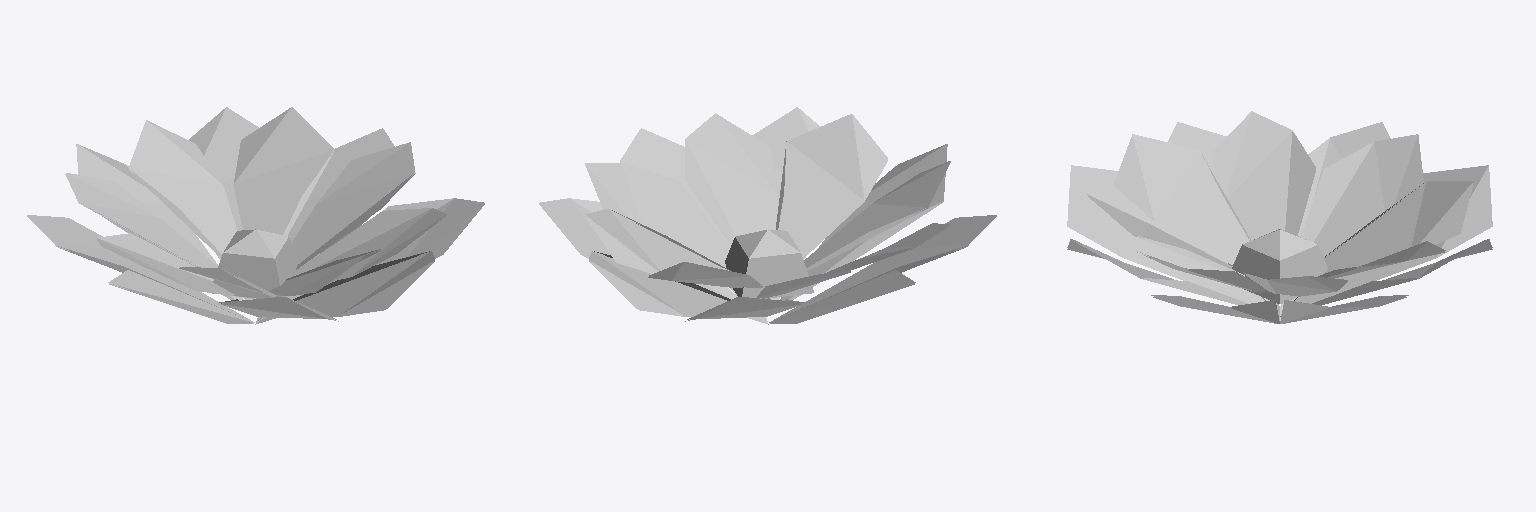
File: flower.obj
3 renders of one model, left to right at view 1: azimuth 30°, elevation 25°; view 2: azimuth 150°, elevation 25°; view 3: azimuth 270°, elevation 25°, orthographic.
Parts seen in each view (by area): view 1: flor; view 2: flor; view 3: flor.
Boxes of the visible parts, x1=… form: flor: x1=27, y1=107, x2=484, y2=324; flor: x1=539, y1=107, x2=996, y2=324; flor: x1=1067, y1=111, x2=1492, y2=323.
Size of the model in its own units: 0.4138 by 0.1521 by 0.428.